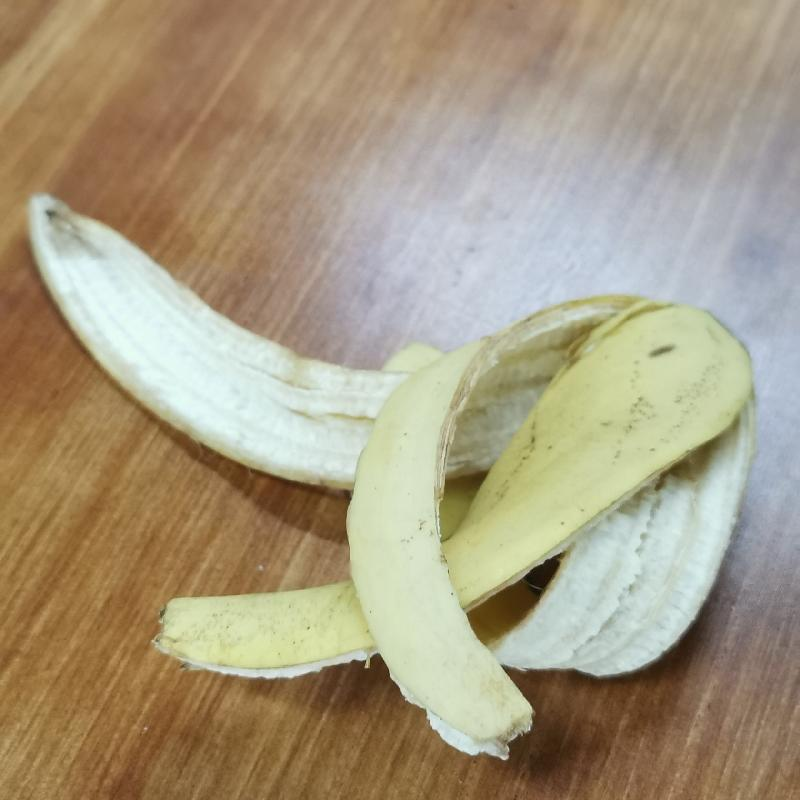bananas: (10, 160, 762, 759)
